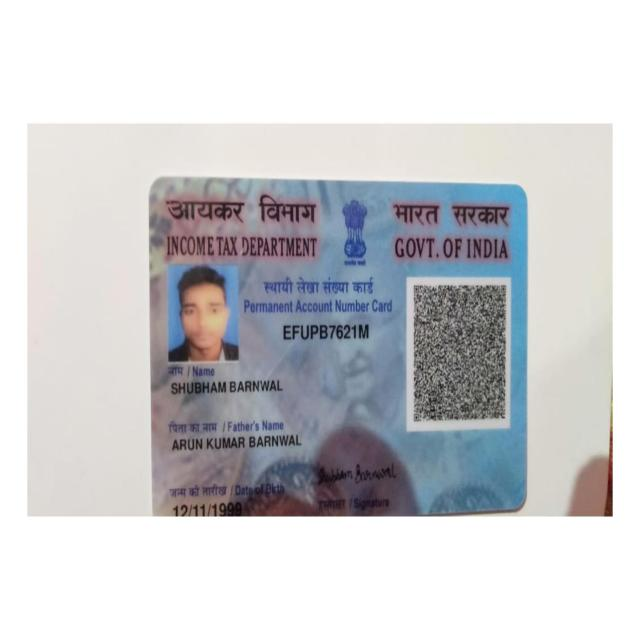pan_card: (150, 185, 526, 517)
